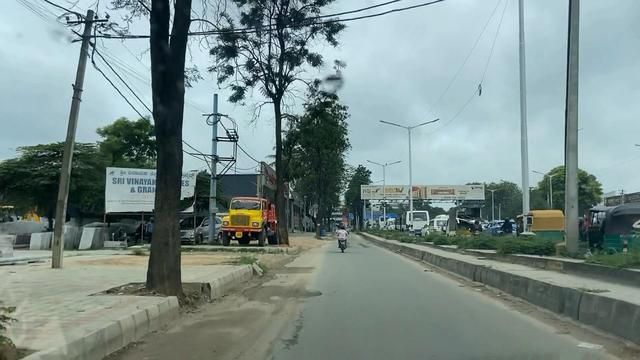RoadDamages: (237, 278, 328, 304), (277, 302, 303, 355)
